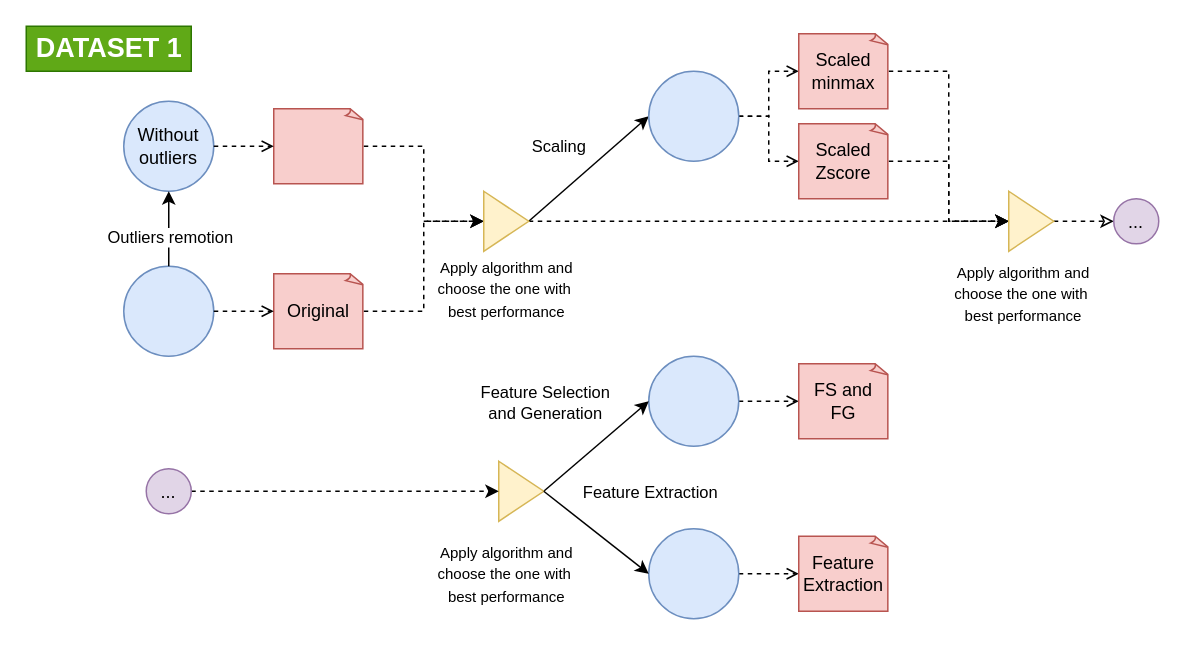
This 1185x645 diagram has some shape labels left out. The centre of each missing label's shape, as x and y in pixels:
"after Extraction" belongs at point (693, 573).
"after FS and FG" belongs at point (693, 400).
"initial data" belongs at point (168, 310).
"No outliers" belongs at point (318, 145).
"scaled data" belongs at point (693, 115).
